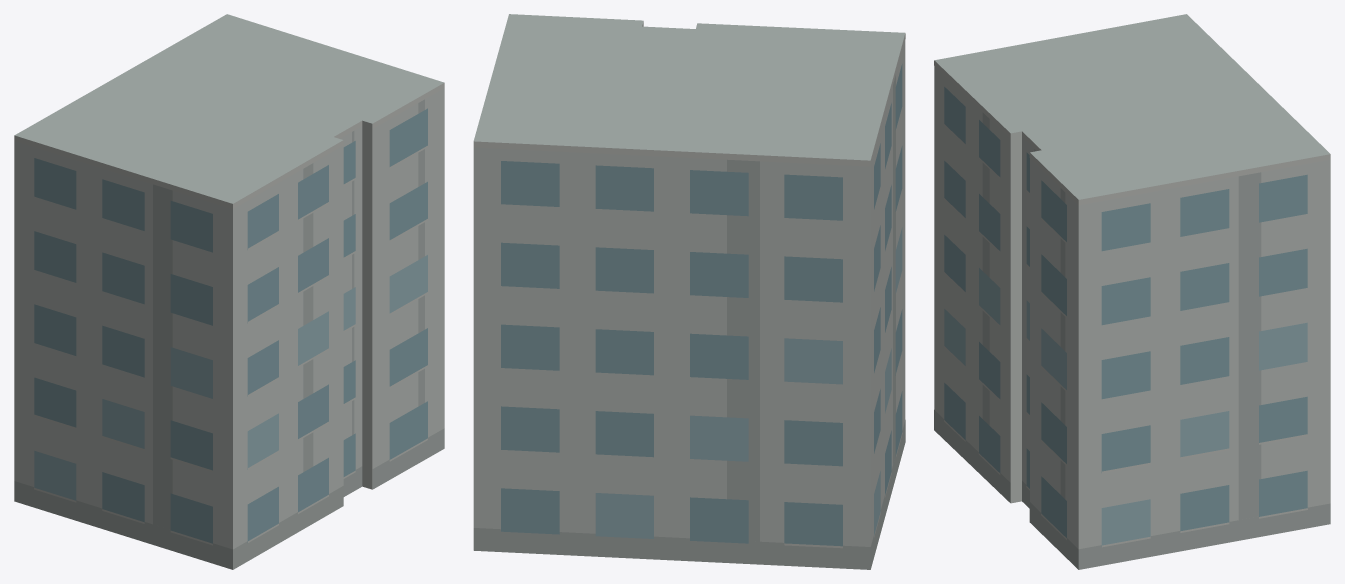
Rendered from survey-upis-32851183.glb.
The picture shows the model from 3 angles, left to right: view 1: azimuth 30°, elevation 25°; view 2: azimuth 150°, elevation 25°; view 3: azimuth 270°, elevation 25°; orthographic projection. The views are drawn at different scales.
Visible parts, largest first — view 1: survey-upis-32851183.tmp; view 2: survey-upis-32851183.tmp; view 3: survey-upis-32851183.tmp.
Part boxes in pixels (x1,y1,x2,y2): survey-upis-32851183.tmp: [14, 14, 444, 569]; survey-upis-32851183.tmp: [473, 14, 905, 569]; survey-upis-32851183.tmp: [934, 14, 1330, 569].
Bounding box in the file's own units: 17.57 × 16.3 × 15.84.
